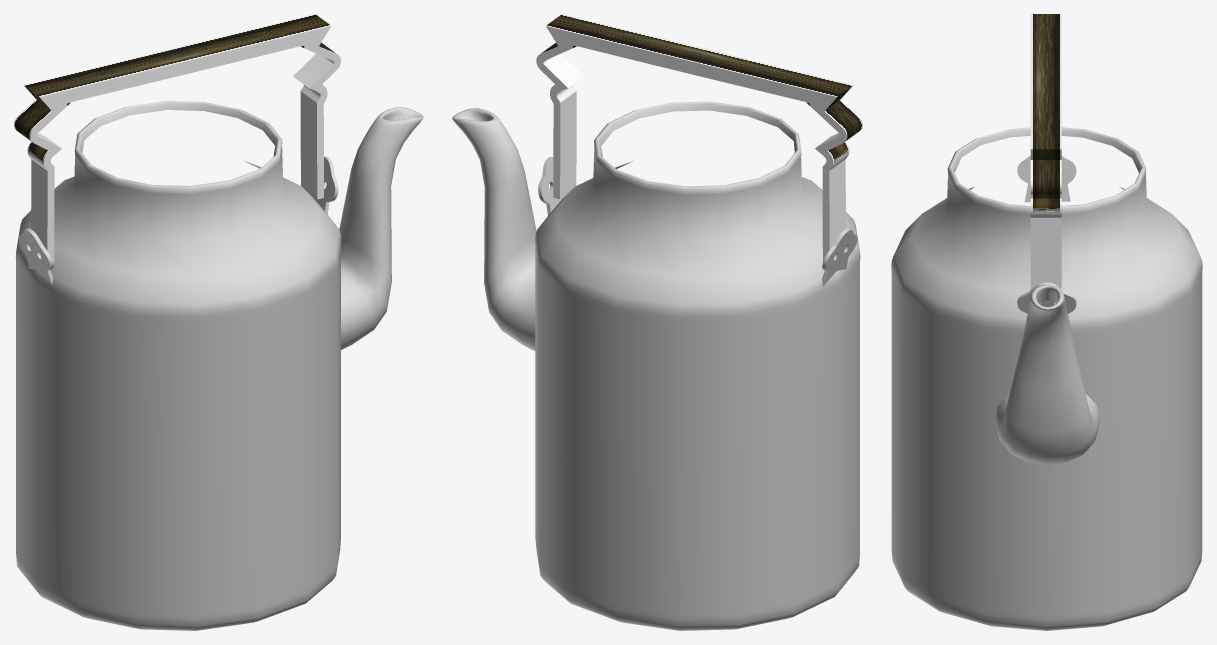
The model's file is TeaPot.glb.
3 views of the same model, side by side, from view 1: azimuth 30°, elevation 25°; view 2: azimuth 150°, elevation 25°; view 3: azimuth 270°, elevation 25° (orthographic). The views are drawn at different scales.
Visible parts, largest first — view 1: Teapot01, Teapot02, Line04, Line03, Teapot03, Line02, Line01; view 2: Teapot01, Teapot03, Line04, Line03, Teapot02, Line02, Line01; view 3: Teapot01, Line04, Teapot03, Teapot02, Line03, Line02, Line01.
Boxes of the visible parts, x1,y1,x2,y2 form: Teapot01: (15,101,341,630); Teapot02: (341,107,423,349); Line04: (162,14,340,199); Line03: (14,48,193,263); Teapot03: (339,107,422,264); Line02: (18,228,53,284); Line01: (310,156,338,214); Teapot01: (535,101,860,630); Teapot03: (452,108,535,350); Line04: (536,14,715,198); Line03: (685,48,862,261); Teapot02: (453,108,536,265); Line02: (821,228,857,286); Line01: (538,157,566,215); Teapot01: (891,127,1202,630); Line04: (1030,78,1061,303); Teapot03: (1033,285,1100,464); Teapot02: (994,285,1061,464); Line03: (1030,14,1061,85); Line02: (1017,155,1076,202); Line01: (1017,282,1076,325).
Size of the model in its own units: 80.24 by 99.34 by 56.83.
1 material, 1 textured.
